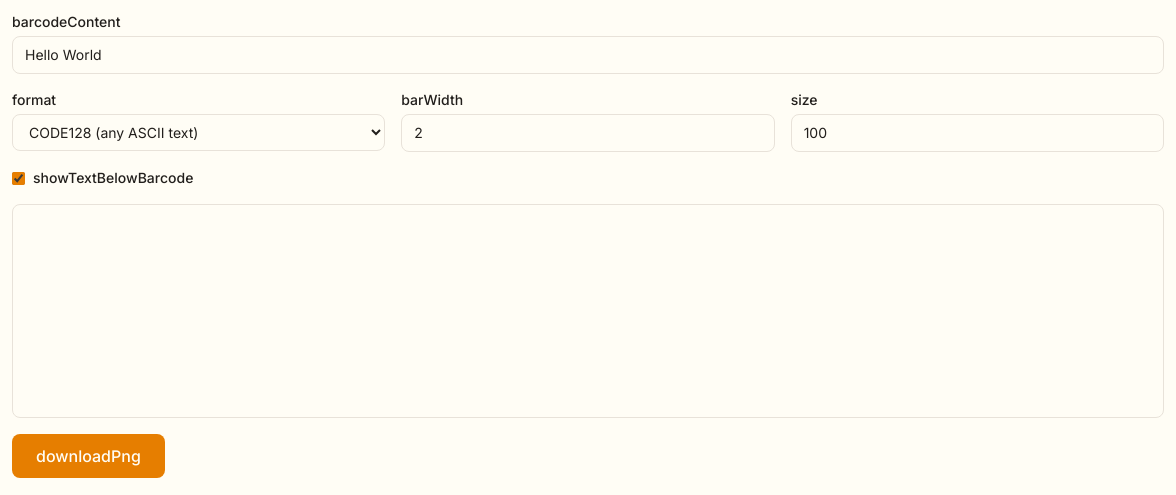
Test: BarcodeGenerator › shows placeholder when text is empty
The width and height of the screenshot is (1176, 495).
Clear the field labelled "barcodeContent" at (588, 55), box [12,36,1164,74]
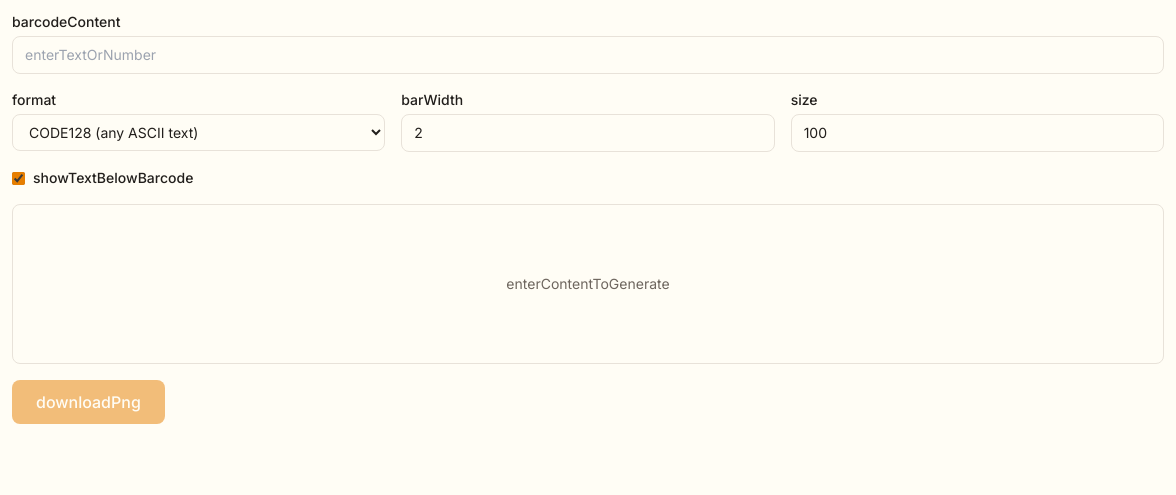
Expected: the text "enterContentToGenerate" is shown, [506,274,670,294]
